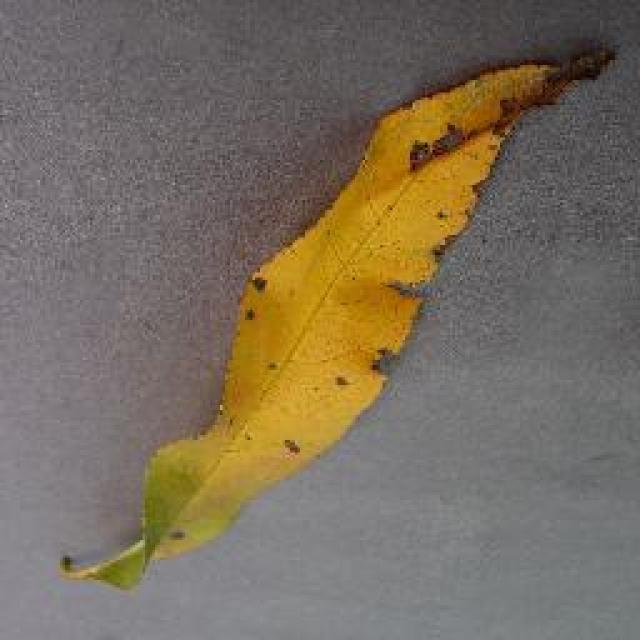Bacterial_spot: (243, 266, 275, 336), (321, 364, 360, 396), (268, 430, 309, 460)
